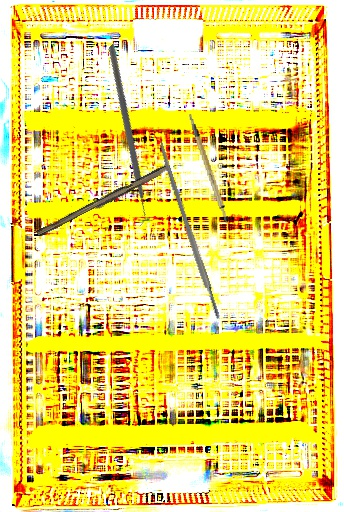Chopper: (30, 43, 218, 232)
Scalpel Handle: (156, 140, 222, 322), (36, 162, 171, 241), (188, 110, 231, 225)
